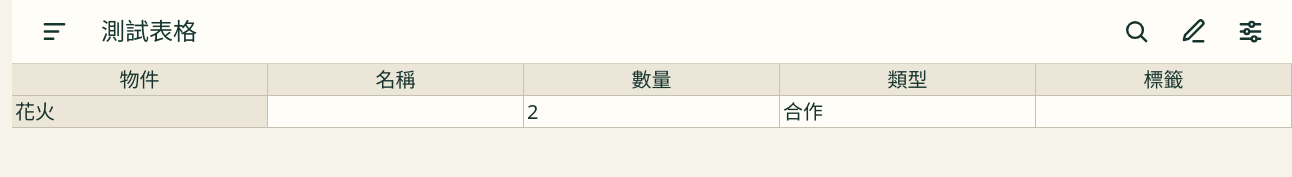
it: WorkspacePage.navigation › adds objects and attributes without opening an editor and reports both with toast messages
Click the button named "編輯": (1193, 32) x1=1169 y1=8 x2=1217 y2=56
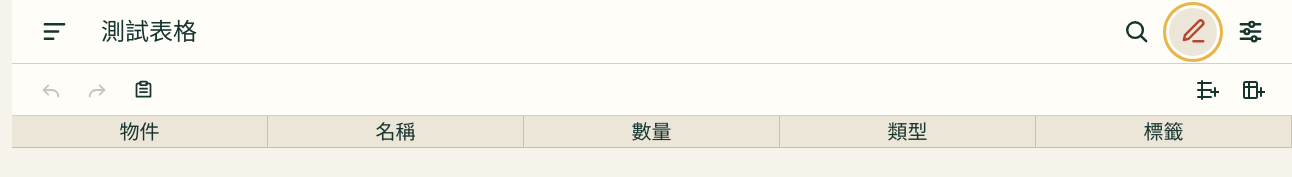
Click the button named "新增屬性": (1253, 90) x1=1232 y1=68 x2=1274 y2=112
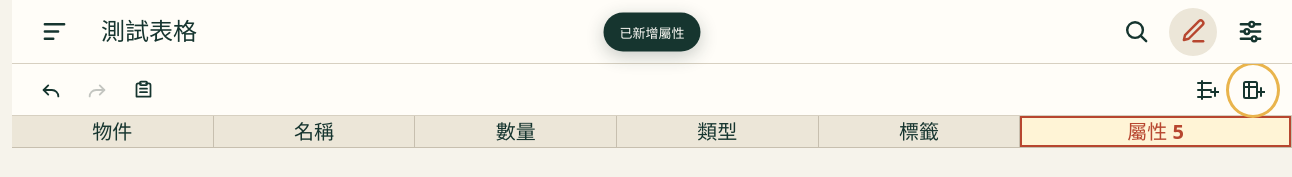
Expected: the header is shown, x1=12 y1=0 x2=1291 y2=64
Expected: the message reads "已新增屬性", x1=620 y1=23 x2=684 y2=41
Expected: the column heading "屬性 5" is shown, x1=1020 y1=116 x2=1291 y2=148
Click the button named "新增物件": (1207, 90) x1=1186 y1=68 x2=1228 y2=112
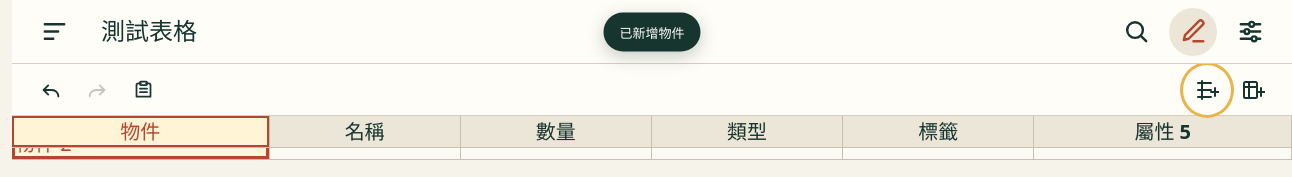
Expected: the message reads "已新增物件", x1=620 y1=23 x2=684 y2=41
Expected: the row "物件 2" is shown, x1=12 y1=128 x2=1291 y2=160
